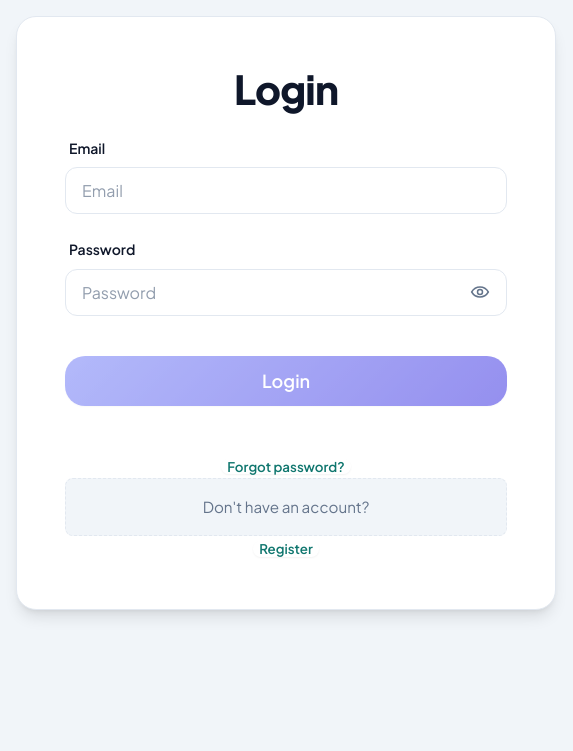
Test: LoginPage › displays a server error message on failed login
The image size is (573, 751).
Type "bad@example.com" into the field labelled "Email" at (286,191), box [66,168,506,213]
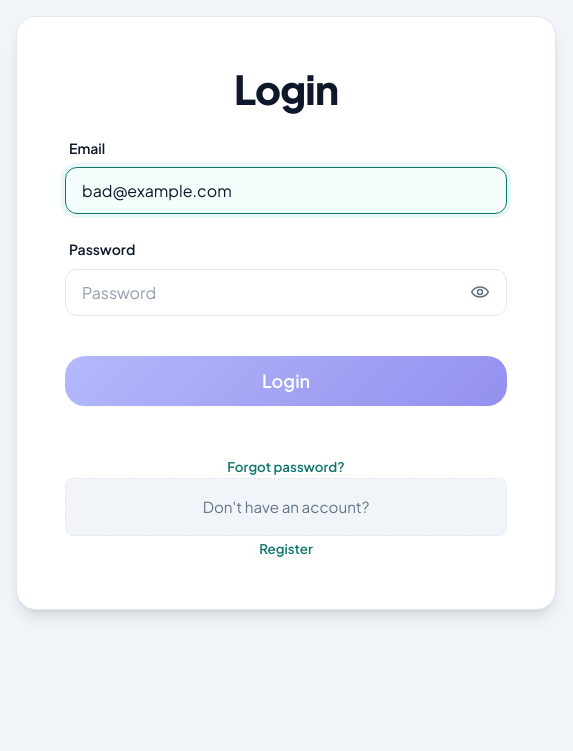
Type "wrongpass" into the password field labelled "Password" at (286,292), box [66,270,506,315]
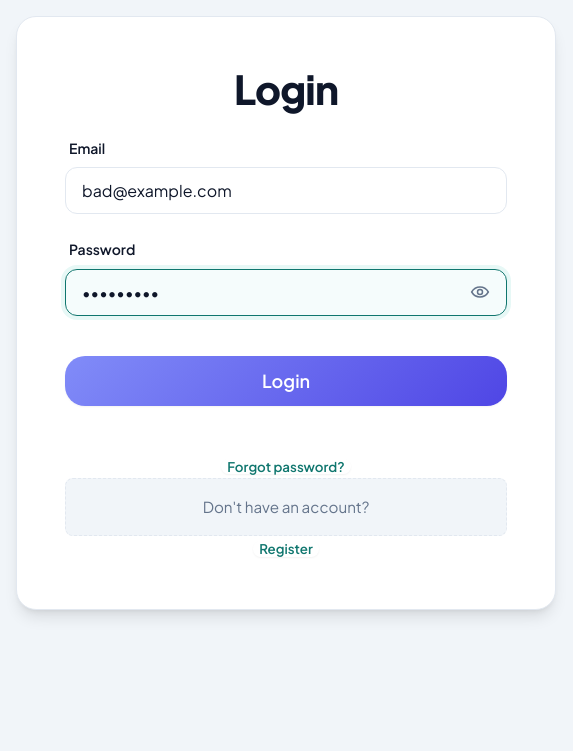
Click the button "Login" at (286,381), box [65,356,507,406]
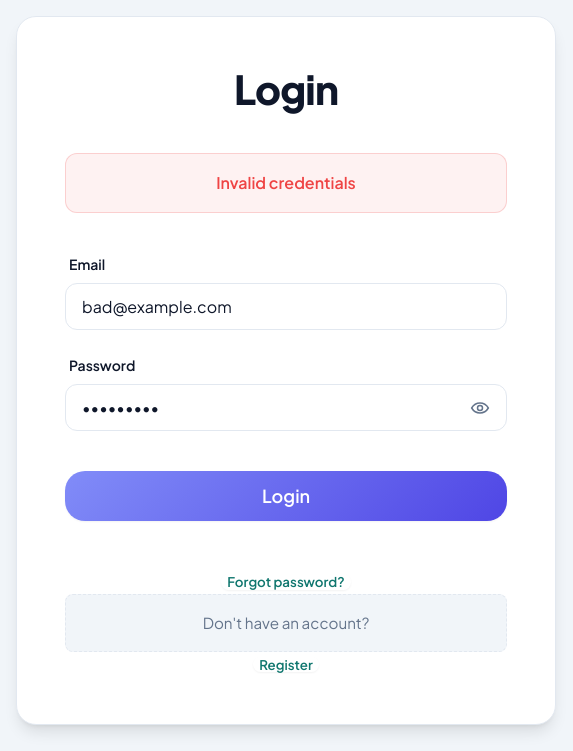
Now the text "Invalid credentials" is shown, box [65,153,507,213]
